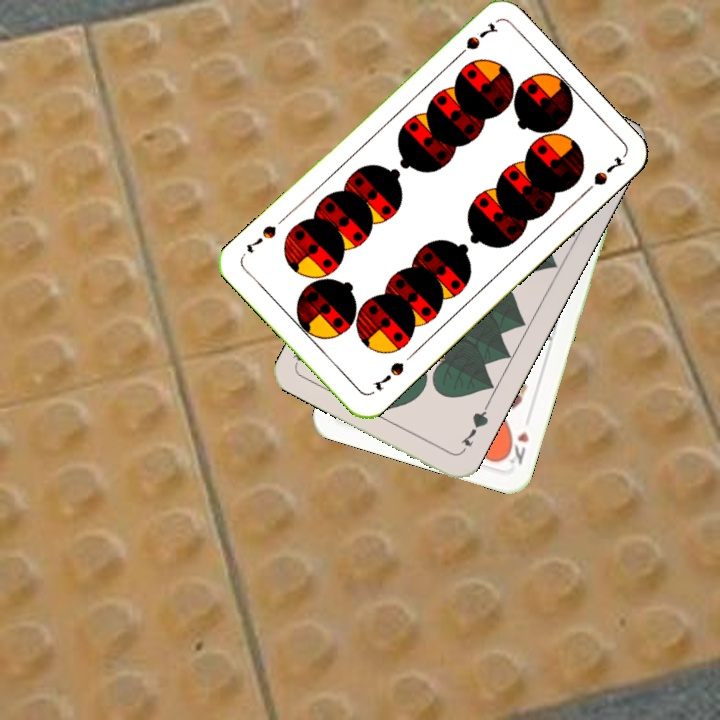G7: (456, 401, 491, 456)
HK: (499, 427, 532, 468)
S7: (450, 18, 501, 63), (369, 358, 407, 393)
